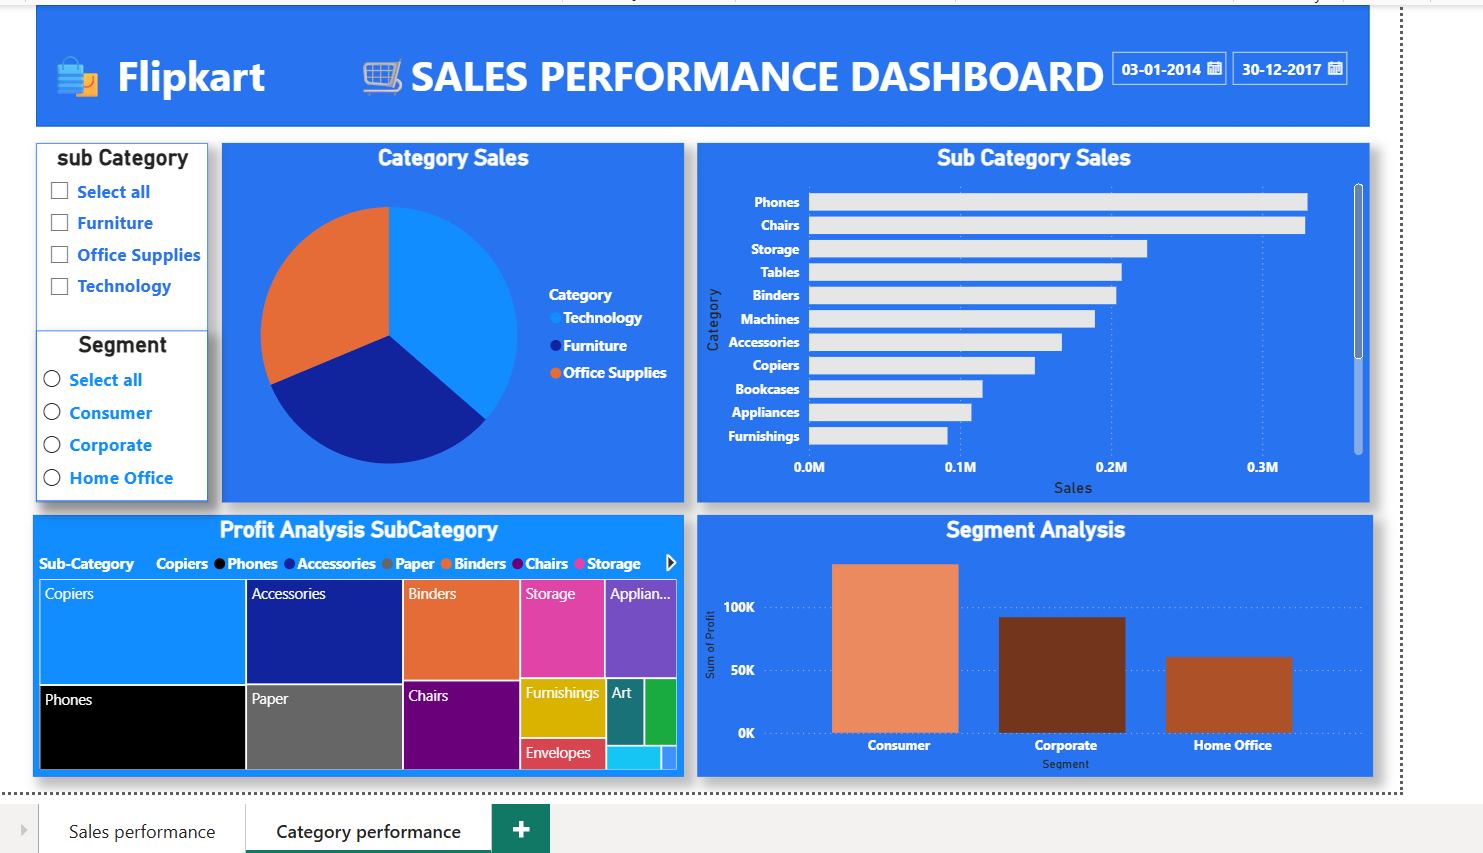

The page's visual inventory and layout, read from the dashboard file:
{"tool":"powerbi","page":{"name":"Category performance","canvas":[1280,720],"ordinal":1},"visuals":[{"type":"barChart","title":"Sub Category Sales","fields":{"Category":["Superstore.Sub-Category"],"Y":["Sum(Superstore.Sales)"]},"box":[637.5,125.7,614.8,328.6],"z":0},{"type":"pieChart","title":"Category Sales","fields":{"Category":["Superstore.Category"],"Y":["Sum(Superstore.Sales)"]},"box":[202.9,125.7,422.5,328.6],"z":1000},{"type":"treemap","title":"Profit Analysis SubCategory","fields":{"Values":["Sum(Superstore.Profit)"],"Group":["Superstore.Sub-Category"]},"box":[30.3,466.4,595.1,239.2],"z":2000},{"type":"columnChart","title":"Segment Analysis","fields":{"Category":["Superstore.Segment"],"Y":["Sum(Superstore.Profit)"]},"box":[637.5,466.4,617.8,239.2],"z":3000},{"type":"slicer","title":"sub Category","fields":{"Values":["Superstore.Category"]},"box":[33.3,125.7,157.5,328.6],"z":4000},{"type":"shape","box":[32.7,0,1240.1,111.1],"z":5000},{"type":"textbox","box":[30.5,32.7,1222.6,122],"z":6000},{"type":"slicer","fields":{"Values":["Superstore.Order Date"]},"box":[1022.1,33.3,251.4,92.4],"z":7000},{"type":"listSlicer","fields":{"Values":["Superstore.Segment"]},"box":[33.3,298.3,157.5,156],"z":8000}]}

Visuals, with their boxes in screenshot pixels (x1, y1, x2, y2):
"Sub Category Sales" barChart: 695:139:1372:501
"Category Sales" pieChart: 216:139:682:501
"Profit Analysis SubCategory" treemap: 26:514:682:778
"Segment Analysis" columnChart: 695:514:1376:778
"sub Category" slicer: 29:139:203:501
shape: 28:0:1395:122
textbox: 26:36:1373:170
slicer - Superstore.Order Date: 1119:37:1396:139
listSlicer - Superstore.Segment: 29:329:203:501
